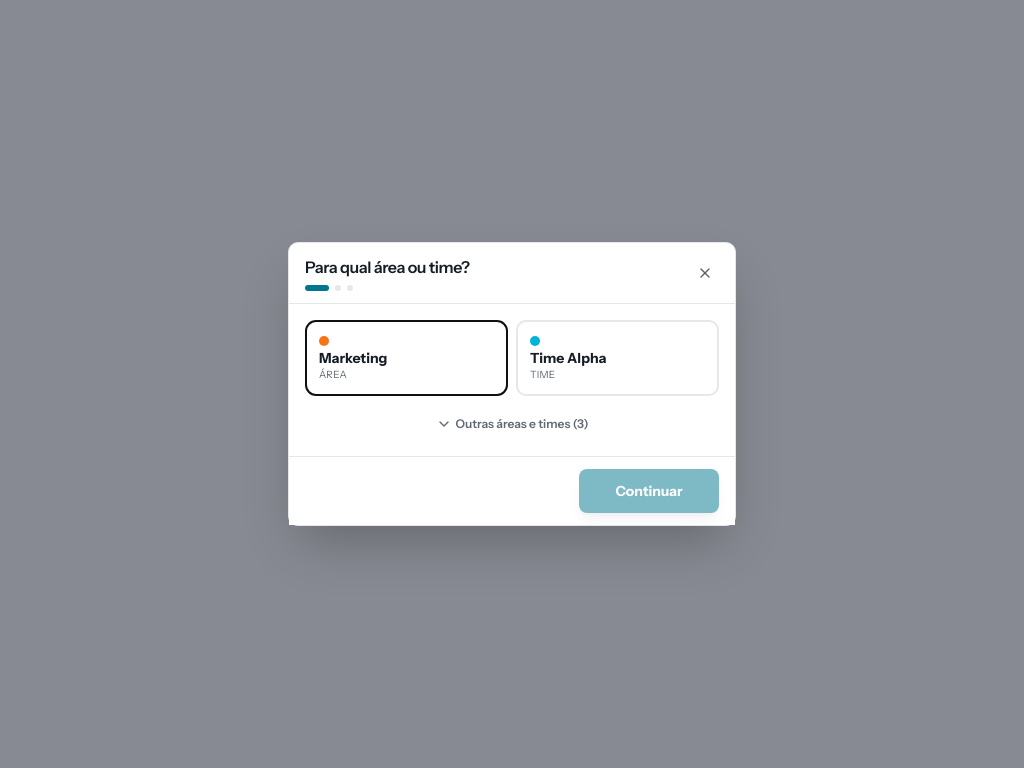
Scenario: enviar uma demanda para si › a setinha abre as outras áreas e times
The width and height of the screenshot is (1024, 768).
Click the button "Outras áreas e times (3)". click: click(512, 424)
box: [305,408,719,440]
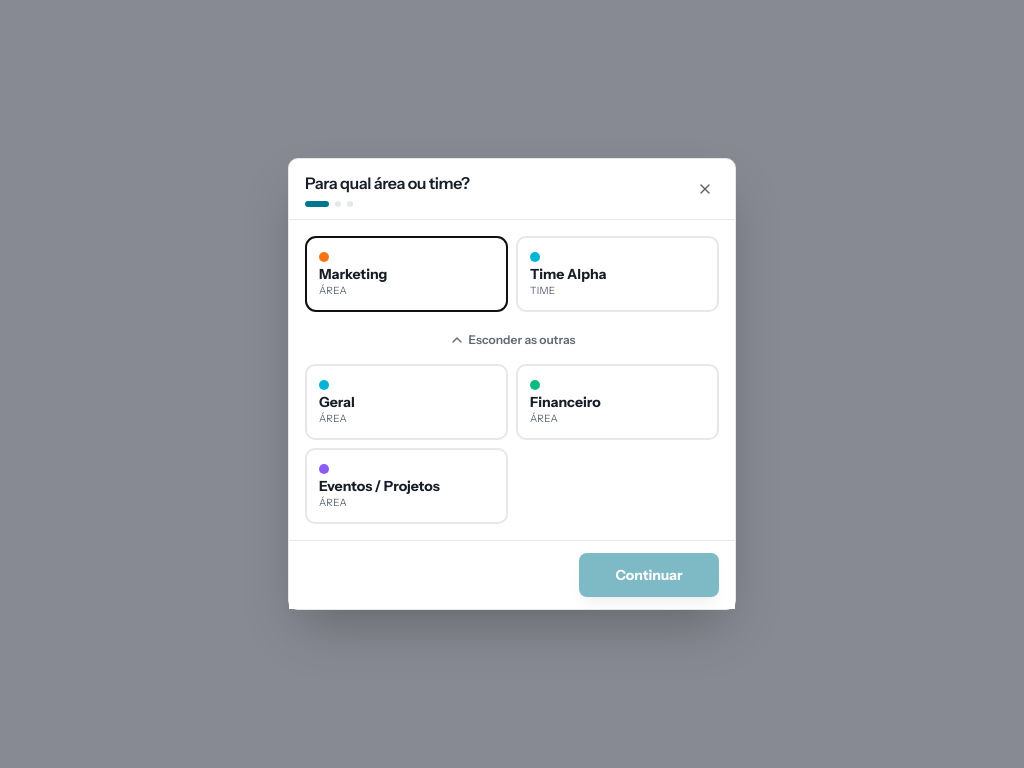
Result: the button "Financeiro Área" is shown at [516,364,719,440]
Result: the button "Esconder as outras" is expanded at [305,324,719,356]
